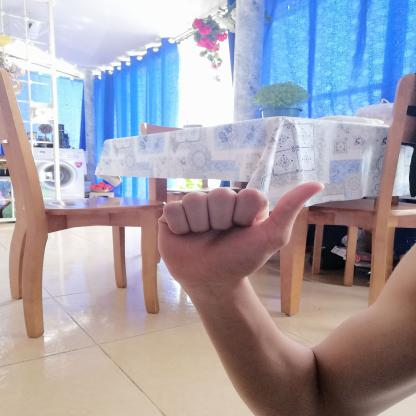DAD: (143, 171, 335, 294)
